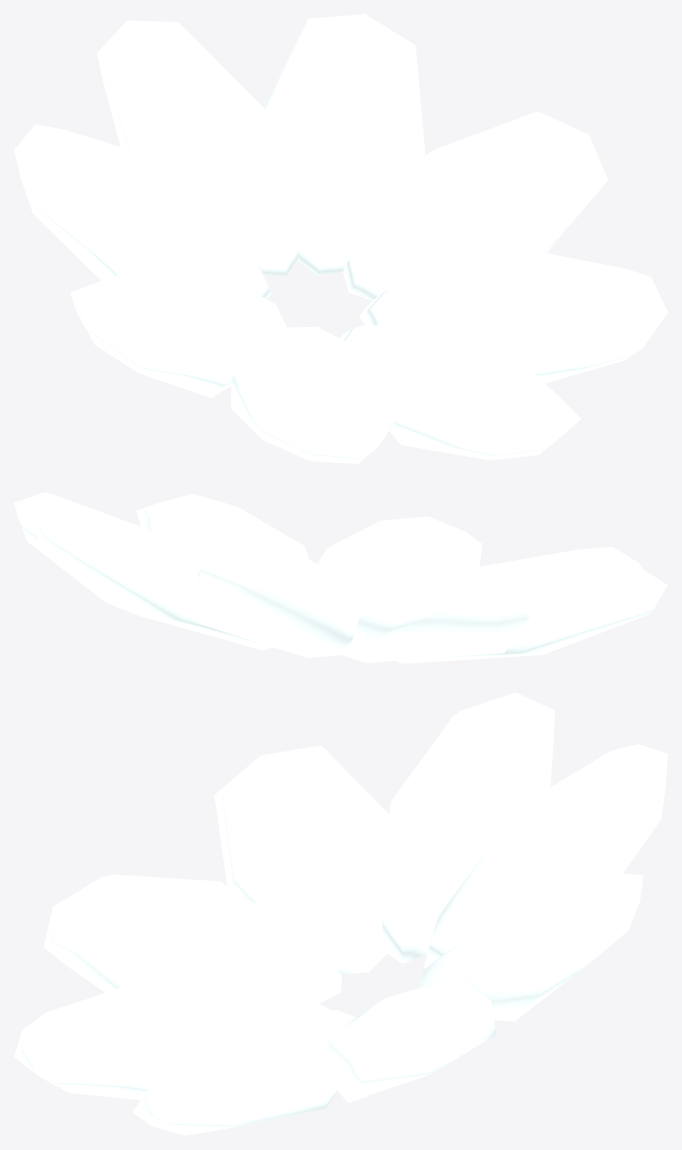
Rendered from daisy_toon_material_secondary_0.001.glb.
3 renders of one model, top to bottom at view 1: azimuth 30°, elevation 25°; view 2: azimuth 150°, elevation 25°; view 3: azimuth 270°, elevation 25°, orthographic. The views are drawn at different scales.
Parts seen in each view (by area): view 1: daisy_toon_material_secondary_0.001; view 2: daisy_toon_material_secondary_0.001; view 3: daisy_toon_material_secondary_0.001.
Boxes of the visible parts, box(x1,y1,x2,y2) form: daisy_toon_material_secondary_0.001: box(14, 14, 667, 463); daisy_toon_material_secondary_0.001: box(14, 492, 667, 663); daisy_toon_material_secondary_0.001: box(14, 692, 667, 1135).
Size of the model in its own units: 0.4698 by 0.2028 by 0.437.
Materials: 1 (1 with a texture image).
